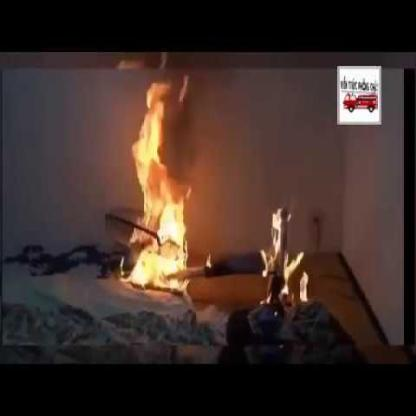fire: (120, 77, 203, 301), (258, 205, 313, 314)
